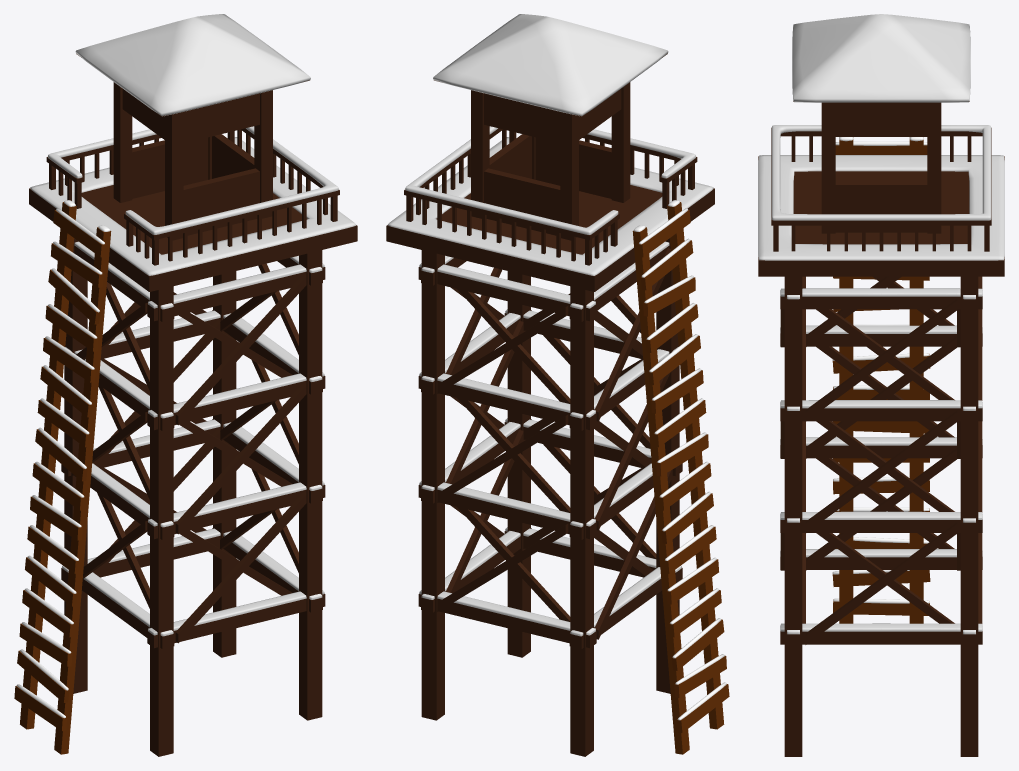
The model's file is Tour_Total2.FBX.
3 views of the same model, side by side, from view 1: azimuth 30°, elevation 25°; view 2: azimuth 150°, elevation 25°; view 3: azimuth 270°, elevation 25° (orthographic). The views are drawn at different scales.
Visible parts, largest first — view 1: P_Pilier03, Échelle001, Neige_Toit, Neige_Renfort_A, Neige_Sol001, Neige_Échelle001, Neige_Rambarde001; view 2: P_Pilier03, Échelle001, Neige_Toit, Neige_Renfort_A, Neige_Sol001, Neige_Échelle001, Neige_Rambarde001; view 3: P_Pilier03, Neige_Toit, Neige_Sol001, Échelle001, Neige_Renfort_A, Neige_Rambarde001, Neige_Échelle001.
Part boxes in pixels (x1,y1,x2,y2): P_Pilier03: [29, 53, 357, 756]; Échelle001: [14, 202, 111, 754]; Neige_Toit: [75, 14, 310, 116]; Neige_Renfort_A: [62, 241, 324, 636]; Neige_Sol001: [30, 137, 356, 275]; Neige_Échelle001: [16, 200, 110, 718]; Neige_Rambarde001: [48, 126, 338, 234]; P_Pilier03: [386, 53, 714, 756]; Échelle001: [632, 202, 729, 754]; Neige_Toit: [433, 14, 668, 116]; Neige_Renfort_A: [419, 241, 681, 636]; Neige_Sol001: [387, 137, 713, 275]; Neige_Échelle001: [633, 200, 726, 720]; Neige_Rambarde001: [405, 126, 695, 234]; P_Pilier03: [758, 101, 1004, 756]; Neige_Toit: [792, 14, 970, 102]; Neige_Sol001: [758, 155, 1004, 260]; Échelle001: [832, 137, 930, 623]; Neige_Renfort_A: [780, 288, 982, 634]; Neige_Rambarde001: [771, 125, 991, 220]; Neige_Échelle001: [832, 137, 929, 603].
Size of the model in its own units: 1744 by 4404 by 1400.
